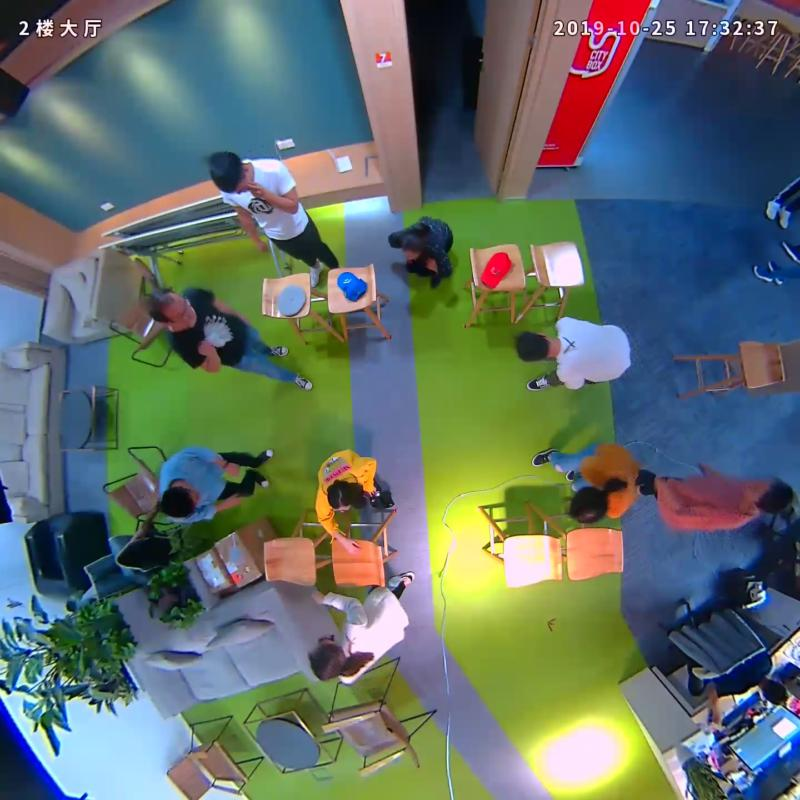head: (560, 479, 619, 529), (141, 283, 199, 332), (742, 473, 800, 519), (300, 636, 354, 684), (202, 148, 253, 196), (510, 326, 566, 369), (152, 481, 204, 524), (320, 477, 364, 519), (391, 228, 435, 266)
